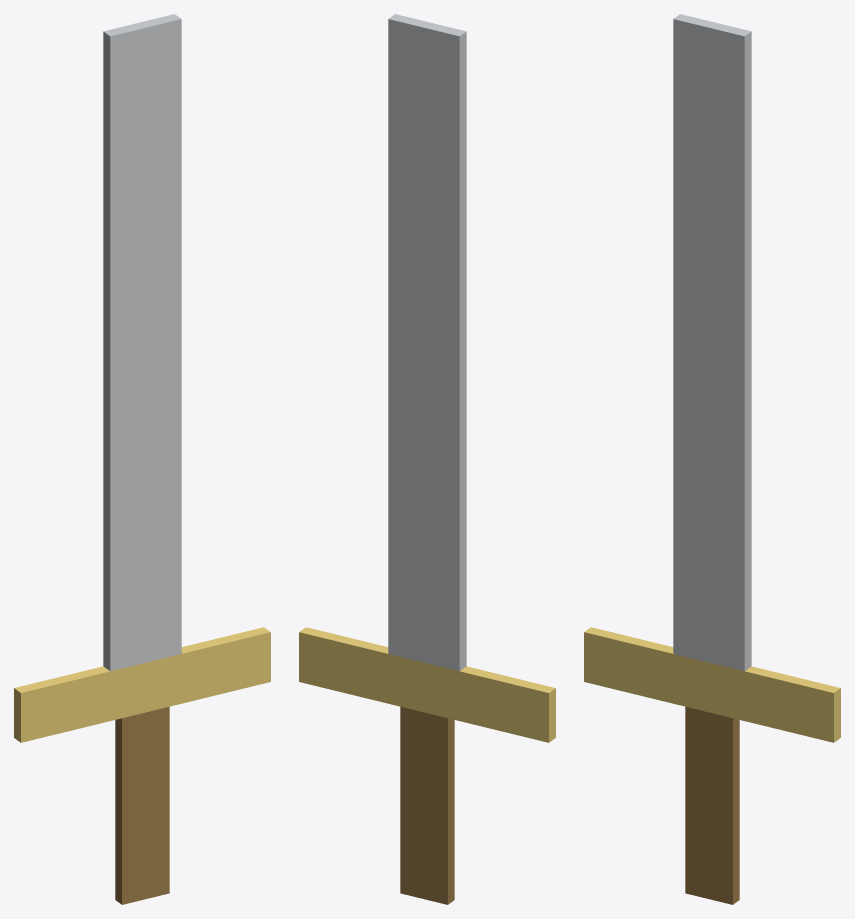
The picture shows the model from 3 angles, left to right: view 1: azimuth 30°, elevation 25°; view 2: azimuth 150°, elevation 25°; view 3: azimuth 330°, elevation 25°; orthographic projection.
Parts seen in each view (by area): view 1: Object_2, Object_3, Object_4; view 2: Object_2, Object_3, Object_4; view 3: Object_2, Object_3, Object_4.
Part boxes in pixels (x1,y1,x2,y2): Object_2: [103, 14, 181, 671]; Object_3: [14, 627, 270, 742]; Object_4: [115, 706, 169, 904]; Object_2: [388, 14, 466, 671]; Object_3: [299, 627, 555, 742]; Object_4: [400, 706, 454, 904]; Object_2: [673, 14, 751, 671]; Object_3: [584, 627, 840, 742]; Object_4: [685, 706, 739, 904].
Bounding box in the file's own units: 0.3228 × 1.08 × 0.0154.
